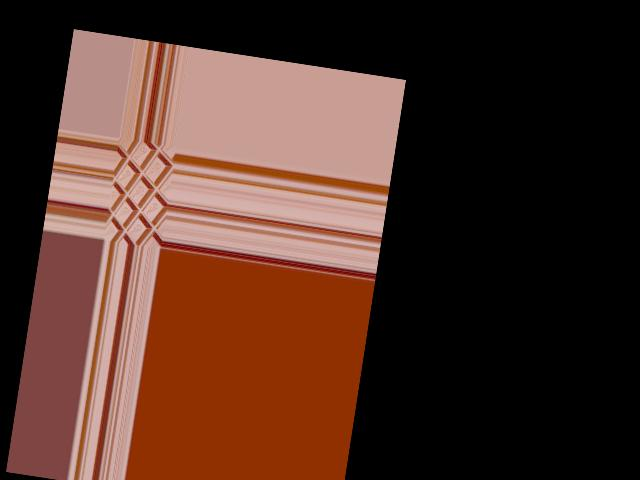chocolate: (105, 138, 177, 246)
